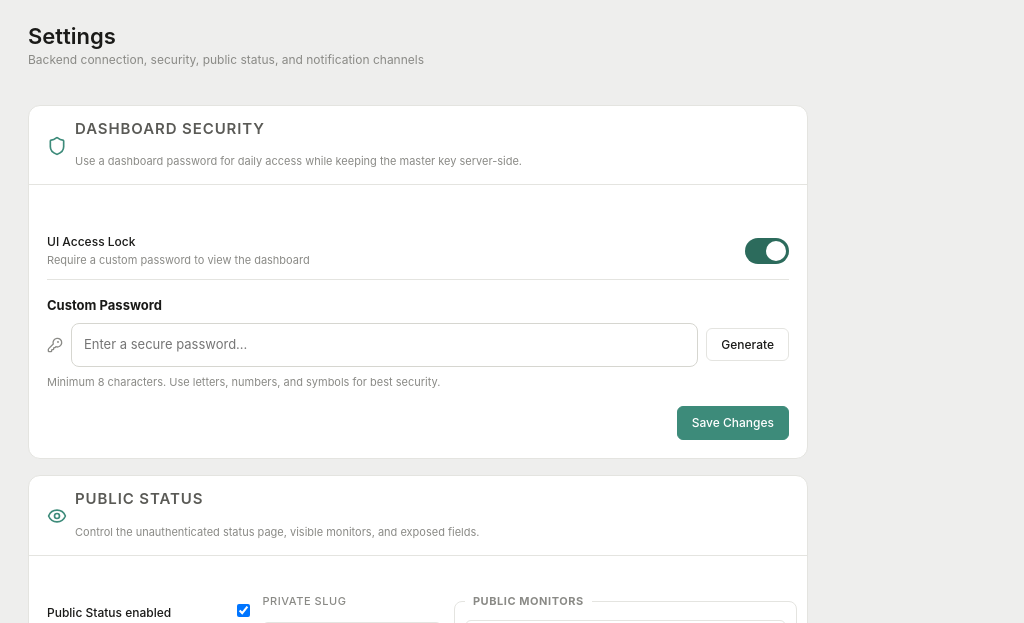
Scenario: Settings › saves valid settings and shows success feedback
In the field labelled "Custom Password": (385, 344) [71,322,698,366], type "secure-pass-1"
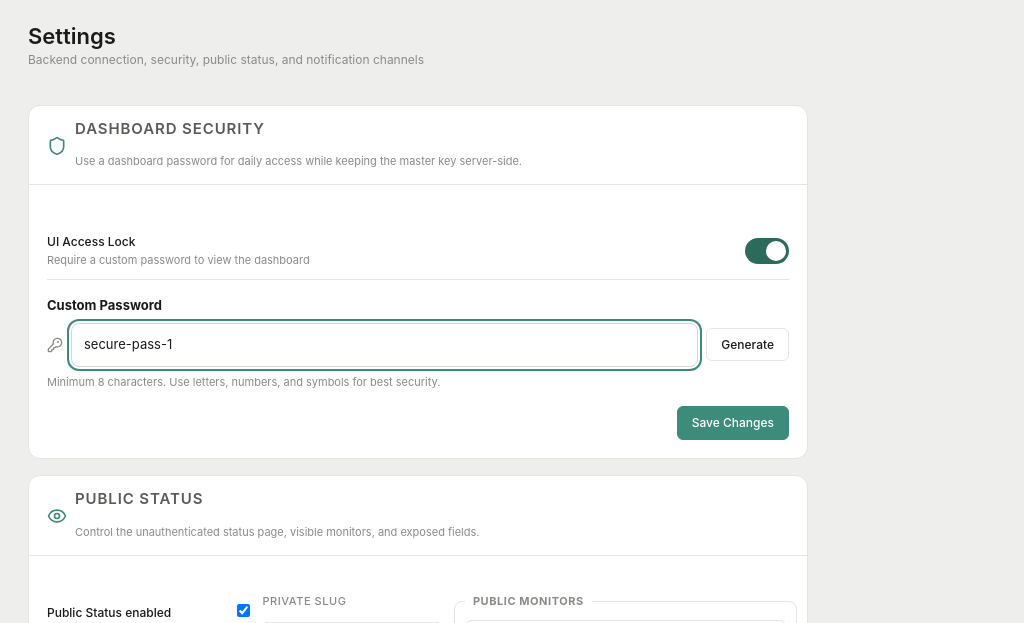
Click the button "Save Changes": click(733, 423) [677,406,789,440]
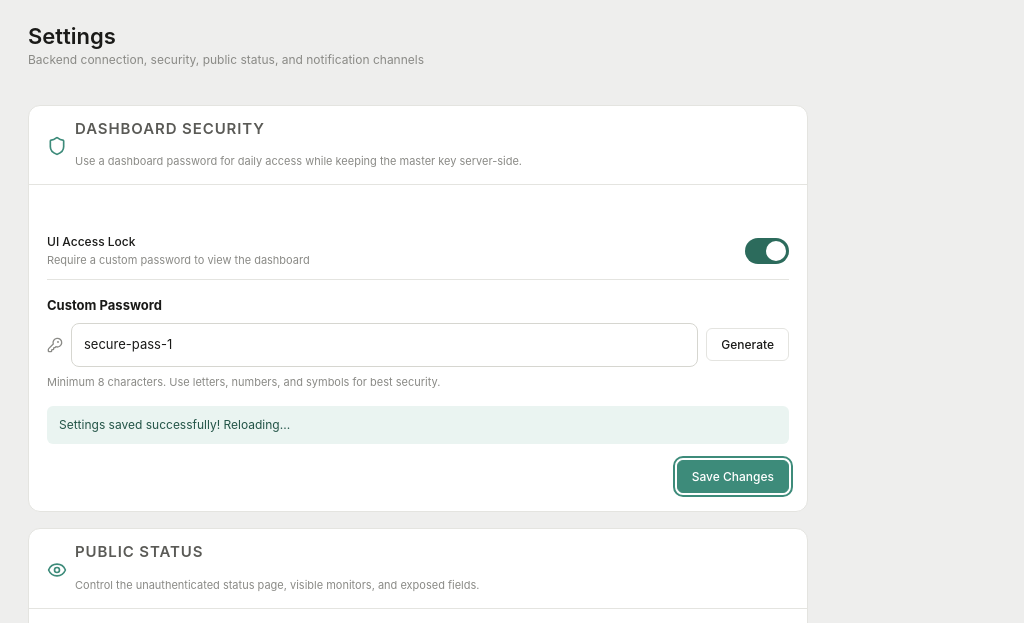
Expected: the text "Settings saved successfully! Reloading..." is shown, [47,406,789,444]
